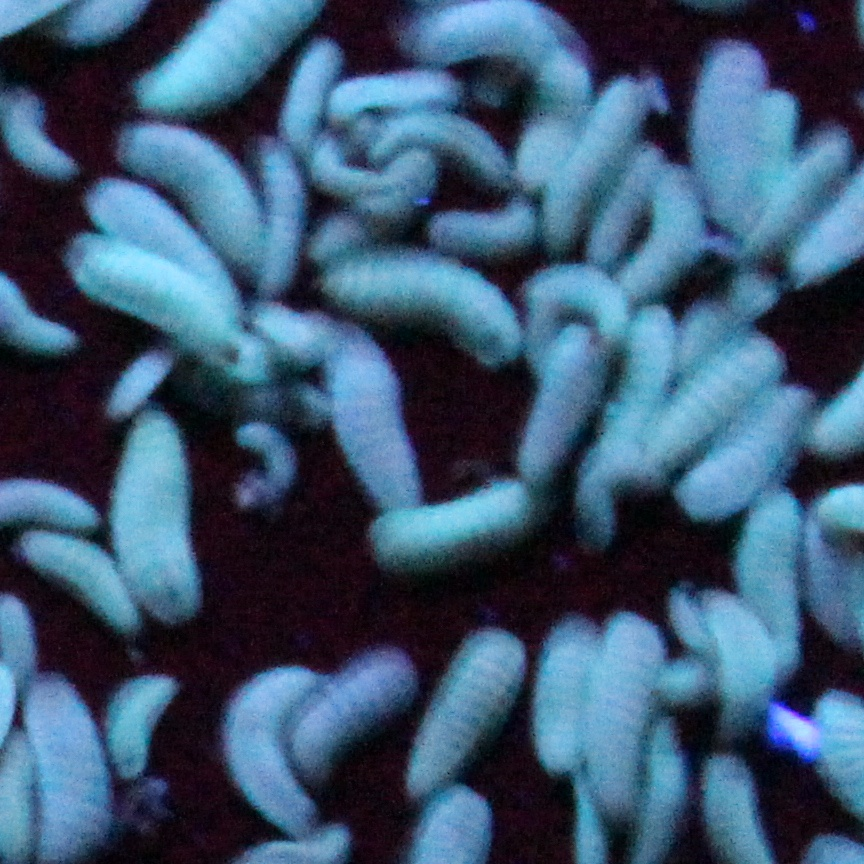larve: (311, 234, 528, 363), (108, 111, 272, 280), (98, 404, 218, 624), (623, 337, 780, 489), (59, 229, 241, 356), (399, 621, 530, 794), (209, 650, 326, 836), (536, 76, 657, 254), (317, 320, 422, 521), (286, 638, 412, 781), (686, 40, 772, 249), (363, 470, 535, 570), (10, 523, 146, 639), (589, 604, 665, 809), (507, 332, 613, 462), (530, 603, 600, 779), (772, 112, 859, 245), (690, 402, 798, 505), (103, 664, 187, 791), (518, 258, 627, 341), (592, 141, 662, 258)
